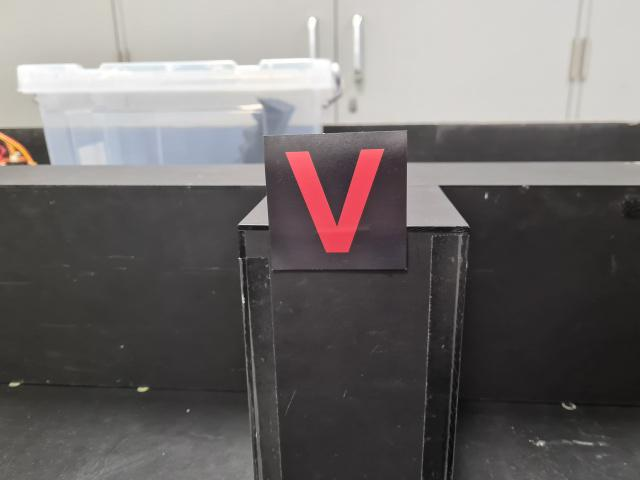v: (258, 129, 408, 272)
